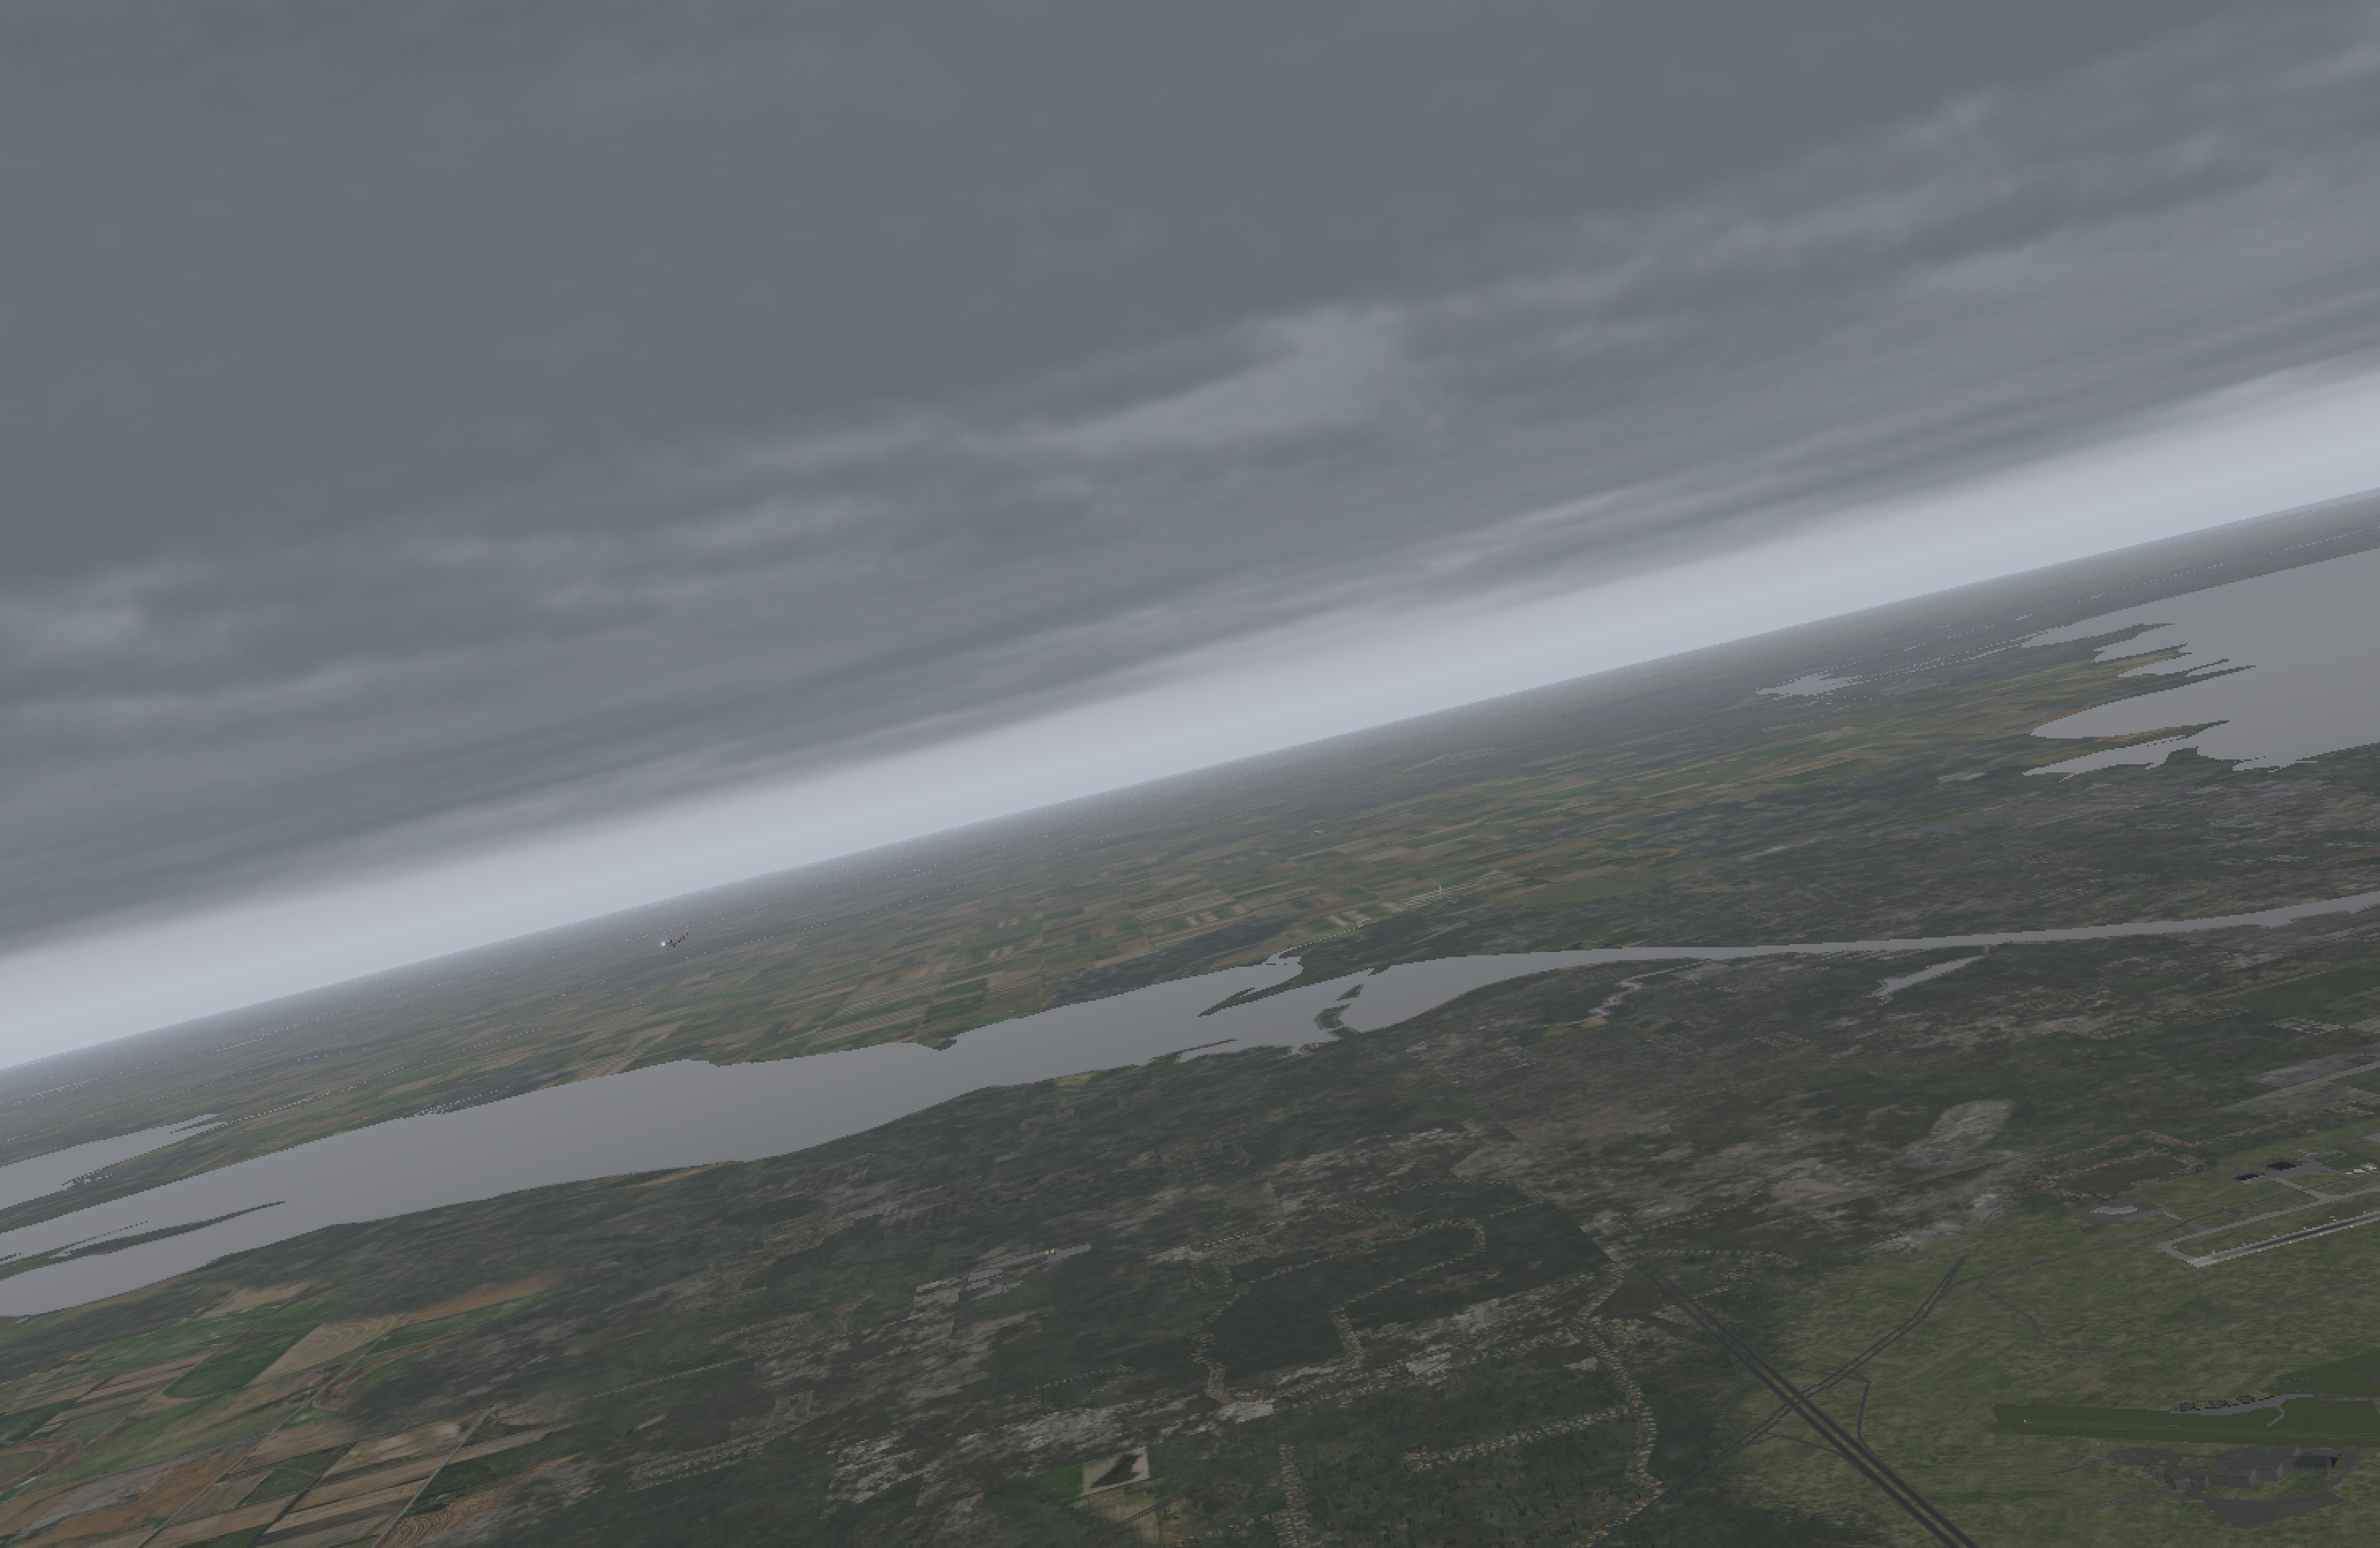aircraft: (657, 939, 685, 949)
